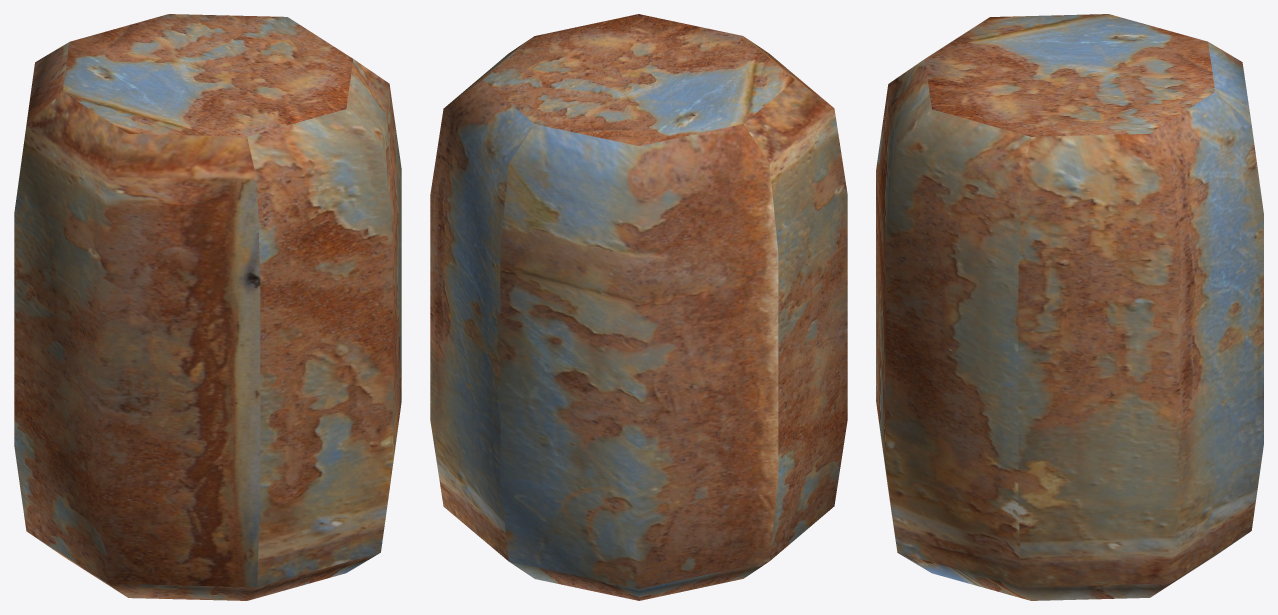
The model's file is barrel.obj.
3 renders of one model, left to right at view 1: azimuth 30°, elevation 25°; view 2: azimuth 150°, elevation 25°; view 3: azimuth 270°, elevation 25°, orthographic. The views are drawn at different scales.
Parts seen in each view (by area): view 1: pCylinder8 group16; view 2: pCylinder8 group16; view 3: pCylinder8 group16.
Part boxes in pixels (bbox=[...]): pCylinder8 group16: bbox=[14, 14, 401, 600]; pCylinder8 group16: bbox=[430, 14, 847, 600]; pCylinder8 group16: bbox=[876, 14, 1263, 600].
Bounding box in the file's own units: 0.3531 × 0.4664 × 0.3531.
Materials: 1 (1 with a texture image).
